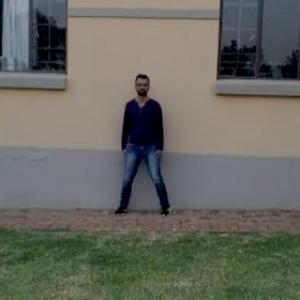follow: (121, 70, 165, 219)
